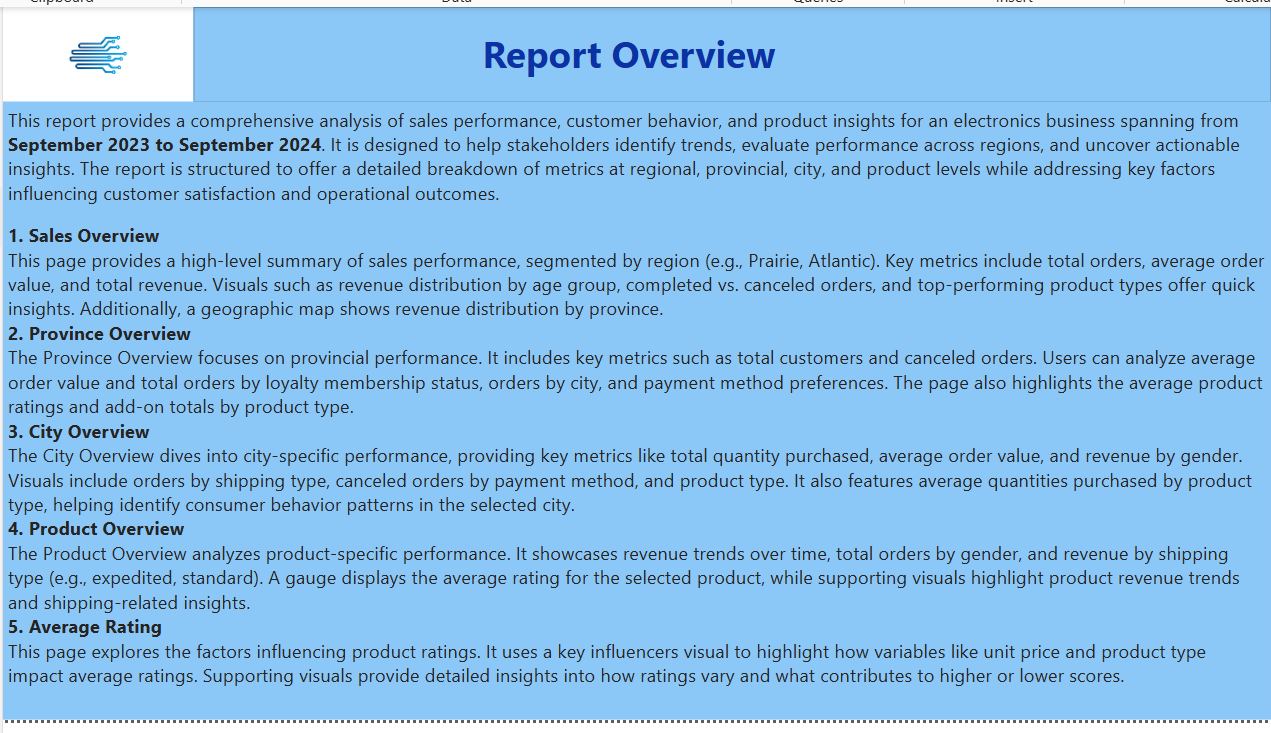

What the dashboard file says about the page in this screenshot:
{"tool":"powerbi","page":{"name":"Report Overview","canvas":[1280,720],"ordinal":0},"visuals":[{"type":"image","box":[0,0,192,96],"z":0},{"type":"shape","box":[192,0,1088,96],"z":1000},{"type":"textbox","box":[368,16,528,64],"z":2000},{"type":"textbox","box":[0,188,192,150],"z":3000},{"type":"textbox","box":[0,96,1280,624],"z":4000}]}

Visuals, with their boxes on the page's 1280x720 design canvas (x1, y1, x2, y2). These are canvas units, not pixel positions in the 1271x733 screenshot, which may show the page scaled, cropped or inside an application window:
image: BBox(0, 0, 192, 96)
shape: BBox(192, 0, 1280, 96)
textbox: BBox(368, 16, 896, 80)
textbox: BBox(0, 188, 192, 338)
textbox: BBox(0, 96, 1280, 720)
